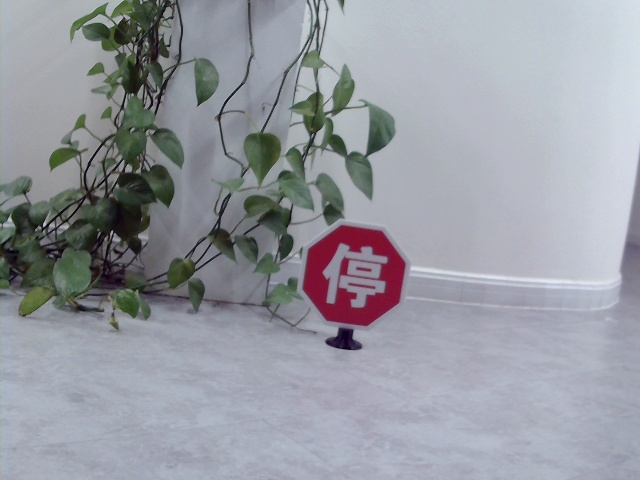stop: (323, 240, 384, 307)
